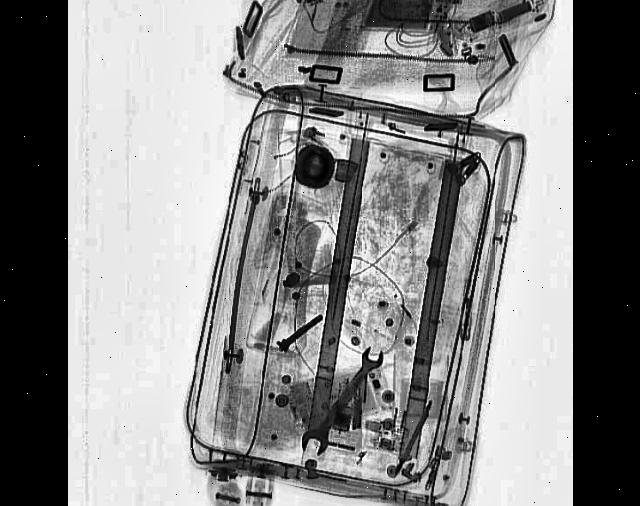Wrench: (296, 336, 386, 466)
